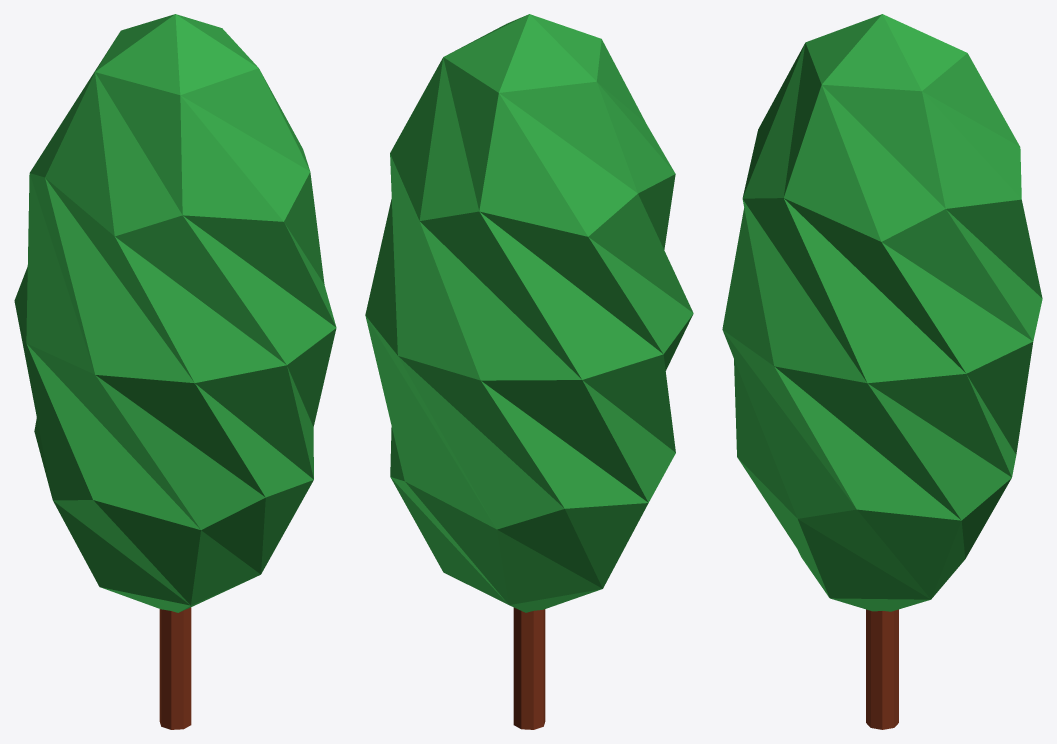
The model's file is tree.6.fbx.
The picture shows the model from 3 angles, left to right: view 1: azimuth 30°, elevation 25°; view 2: azimuth 150°, elevation 25°; view 3: azimuth 270°, elevation 25°; orthographic projection.
Parts seen in each view (by area): view 1: Tree.006; view 2: Tree.006; view 3: Tree.006.
Boxes of the visible parts, box(x1,y1,x2,y2) form: Tree.006: box(14, 14, 336, 729); Tree.006: box(365, 14, 693, 729); Tree.006: box(722, 14, 1042, 729).
Size of the model in its own units: 398 by 953 by 390.
